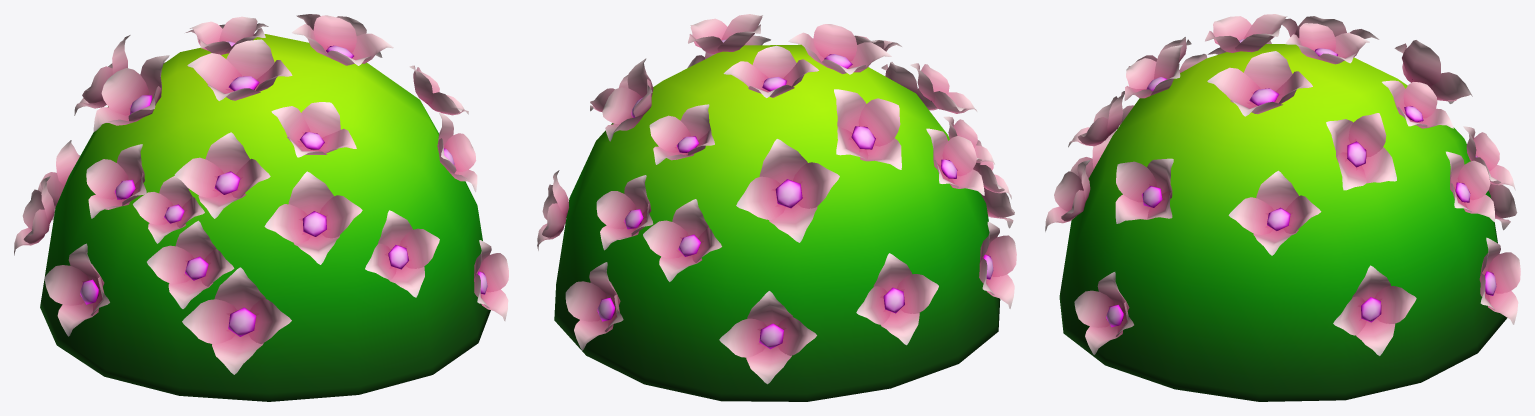
Rendered from flower (8).fbx.
3 renders of one model, left to right at view 1: azimuth 30°, elevation 25°; view 2: azimuth 150°, elevation 25°; view 3: azimuth 270°, elevation 25°, orthographic.
Parts seen in each view (by area): view 1: 07_Bush1; view 2: 07_Bush1; view 3: 07_Bush1.
Boxes of the visible parts, bbox=[...] form: 07_Bush1: bbox=[14, 14, 508, 401]; 07_Bush1: bbox=[537, 14, 1016, 401]; 07_Bush1: bbox=[1045, 14, 1520, 401].
Bounding box in the file's own units: 121 × 73.76 × 118.
